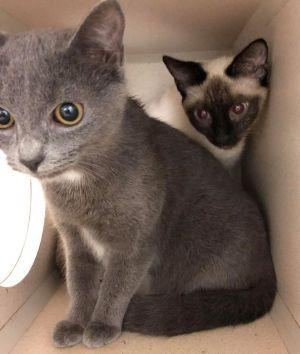rblue: (1, 1, 141, 200)
